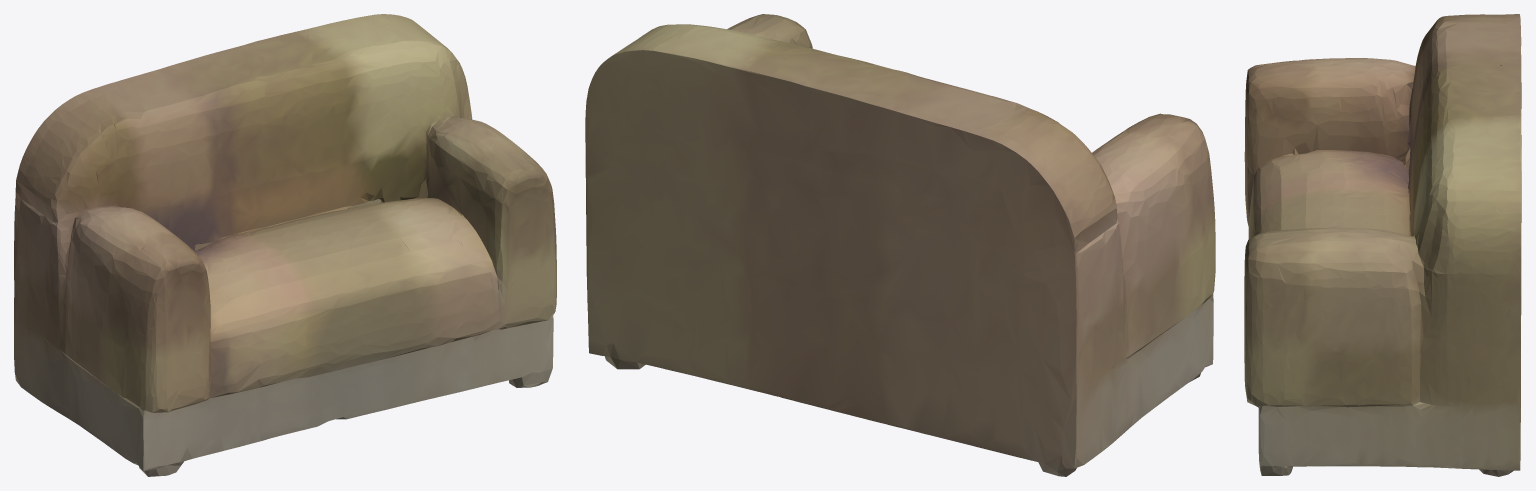
The model's file is qrerut_yzrgxg.glb.
3 renders of one model, left to right at view 1: azimuth 30°, elevation 25°; view 2: azimuth 150°, elevation 25°; view 3: azimuth 270°, elevation 25°, orthographic. The views are drawn at different scales.
Parts seen in each view (by area): view 1: geometry_0; view 2: geometry_0; view 3: geometry_0.
Boxes of the visible parts, x1,y1,x2,y2 form: geometry_0: (14, 14, 556, 476); geometry_0: (585, 14, 1215, 476); geometry_0: (1244, 14, 1521, 476).
Size of the model in its own units: 0.9912 by 0.648 by 0.5459.
